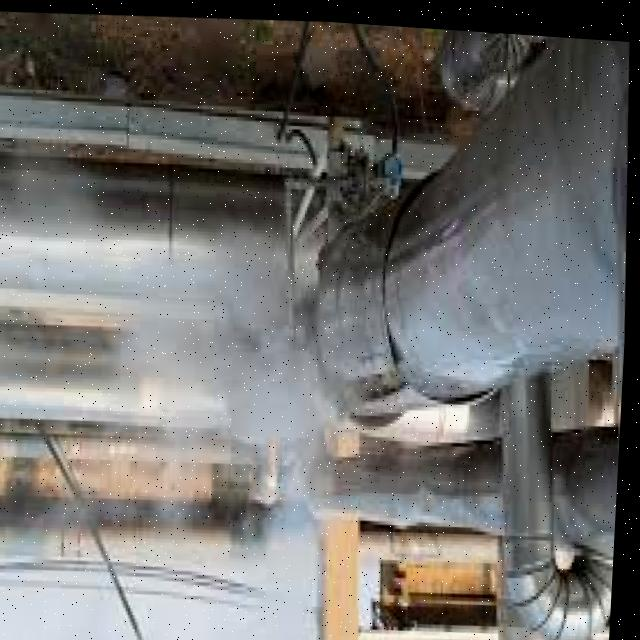corrosion: (179, 294, 361, 507)
